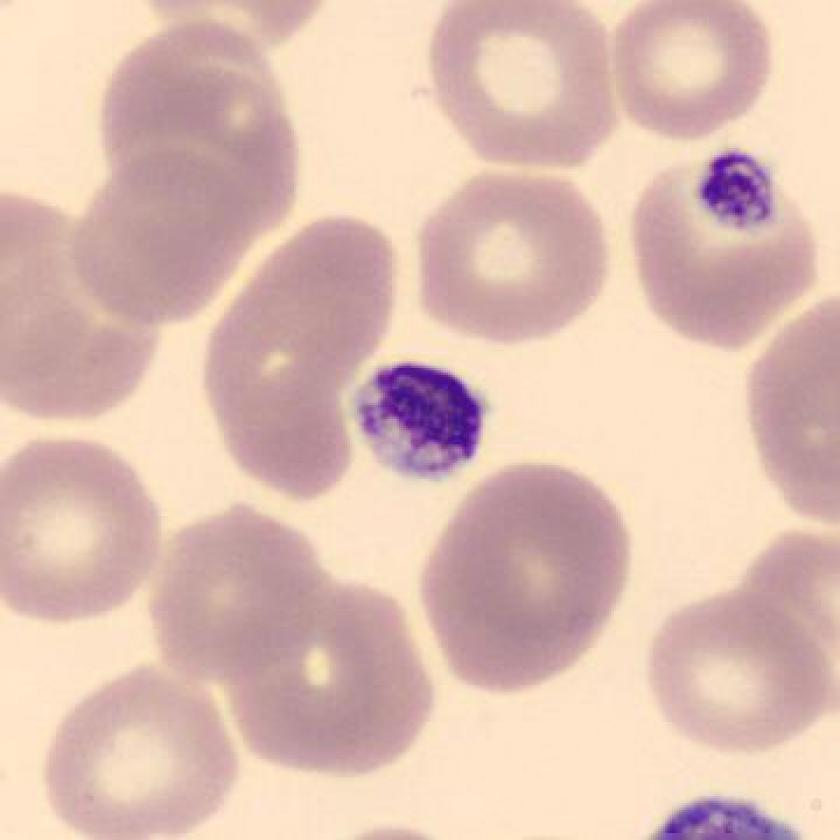platelets: (344, 353, 500, 494), (683, 138, 795, 249)
